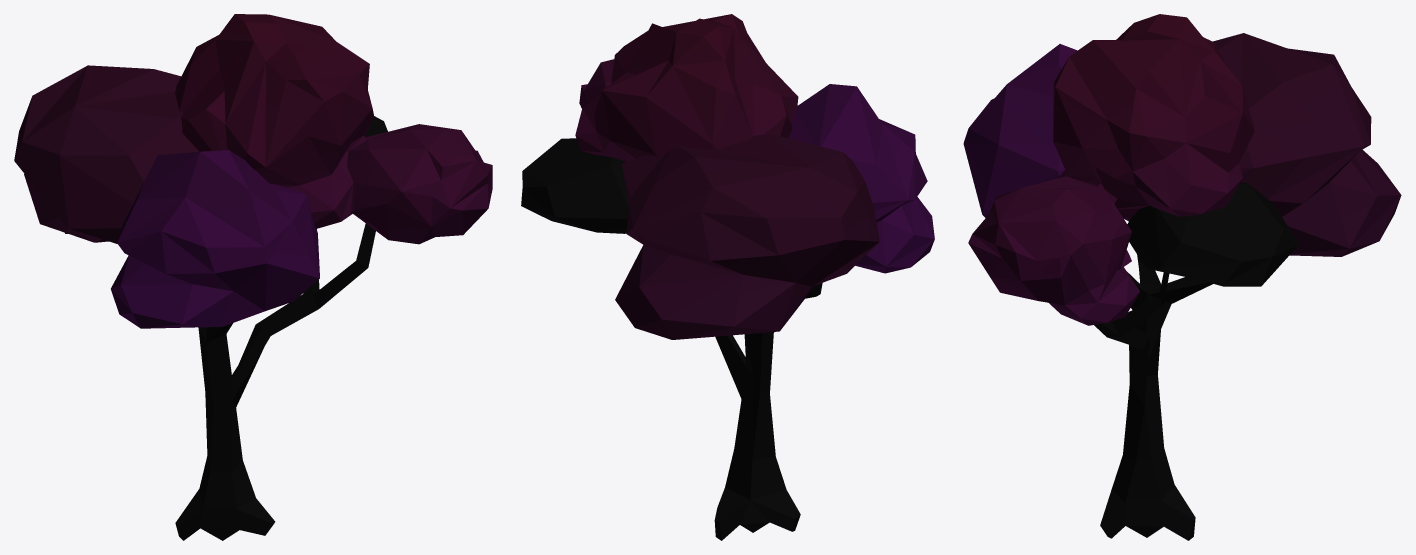
File: Env_Tree_01.glb
The picture shows the model from 3 angles, left to right: view 1: azimuth 30°, elevation 25°; view 2: azimuth 150°, elevation 25°; view 3: azimuth 270°, elevation 25°; orthographic projection. The views are drawn at different scales.
Visible parts, largest first — view 1: SM_Env_Tree_01__3_; view 2: SM_Env_Tree_01__3_; view 3: SM_Env_Tree_01__3_.
Part boxes in pixels (x1=…): SM_Env_Tree_01__3_: x1=14, y1=14, x2=492, y2=540; SM_Env_Tree_01__3_: x1=521, y1=14, x2=934, y2=540; SM_Env_Tree_01__3_: x1=963, y1=14, x2=1401, y2=540.
Size of the model in its own units: 7.09 by 9.41 by 6.93.
1 material, 1 textured.
